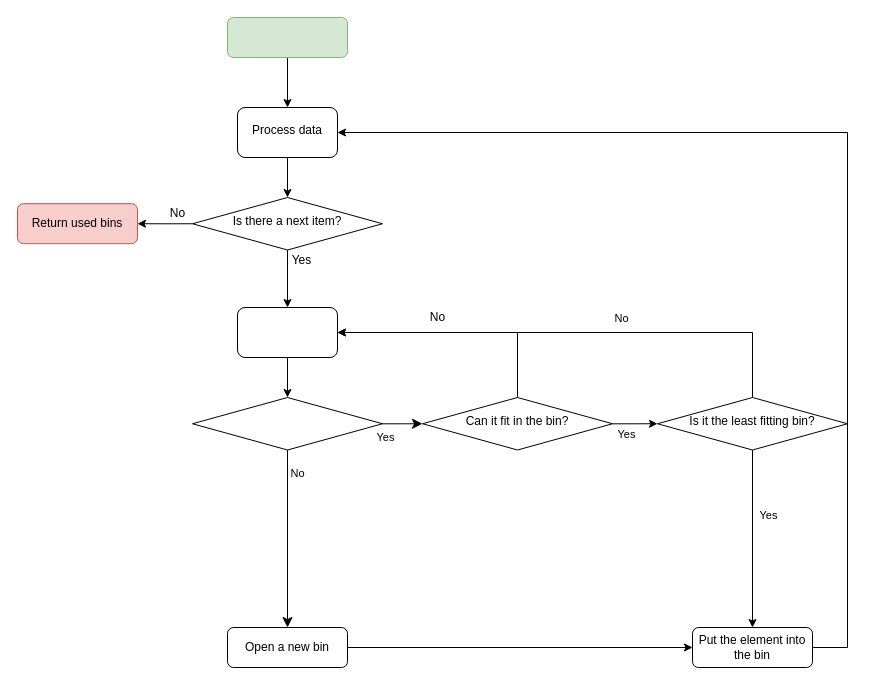
Image size: 873x685. Some labels were removed from this diagram. Here are the shapes that lost their labels. From the top down, the box of each, then its label:
(226, 16, 348, 58): Start worstFit algorithm
(236, 306, 338, 358): Process element
(192, 396, 382, 450): Is there a next bin?
